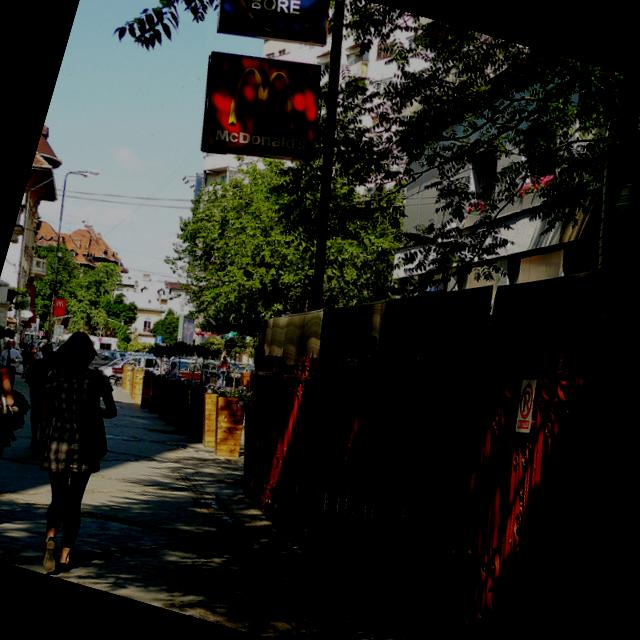Vehicle: (95, 341, 168, 392), (164, 354, 203, 383), (96, 344, 127, 362)
